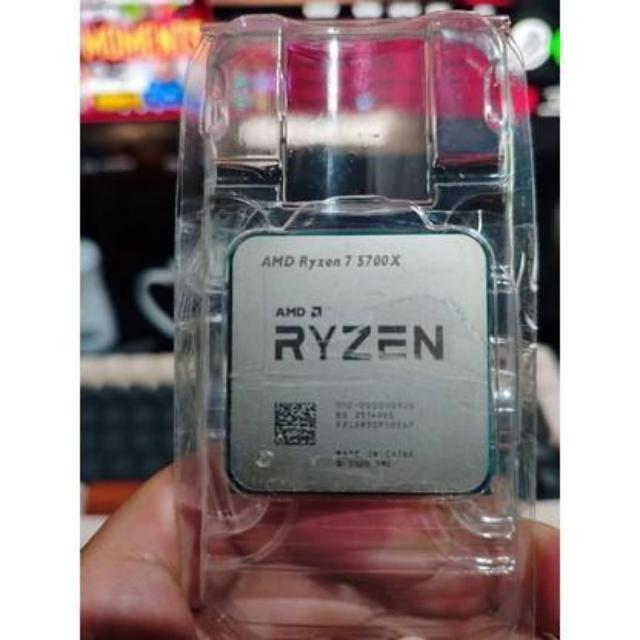CPU: (226, 227, 502, 502)
